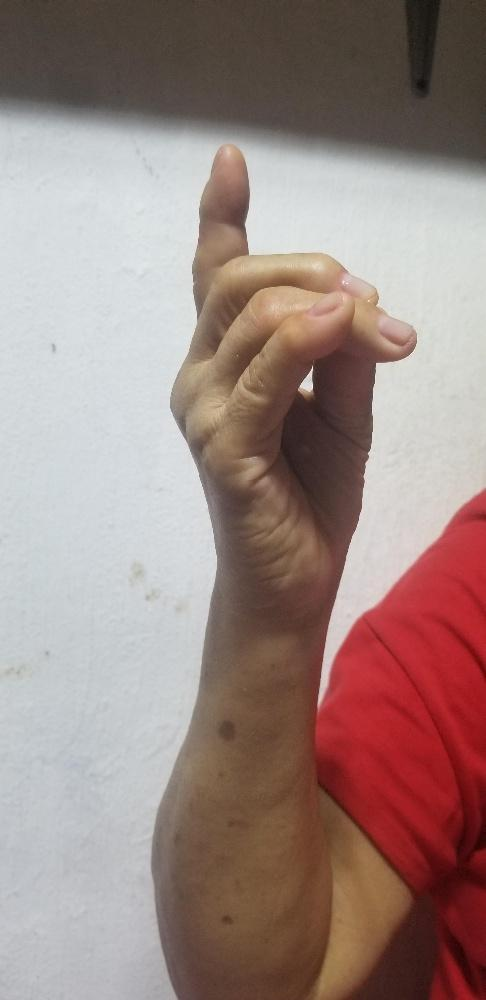d: (170, 141, 415, 604)
